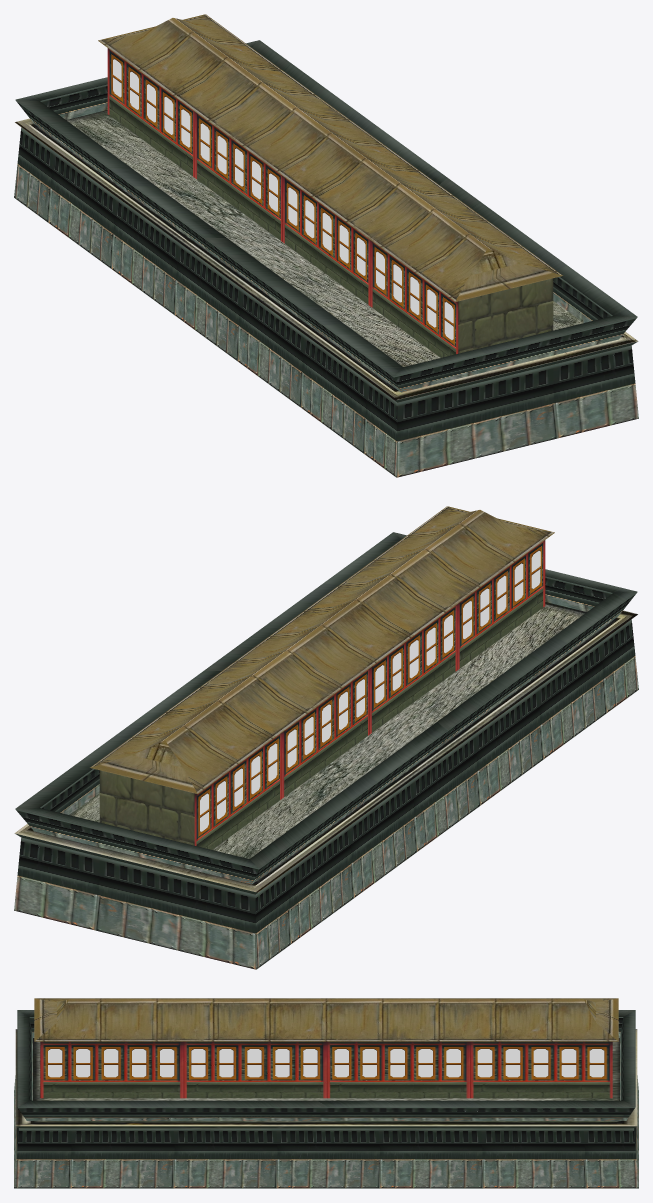
Rendered from l_elitebarracks_hdtex.glb.
3 renders of one model, top to bottom at view 1: azimuth 30°, elevation 25°; view 2: azimuth 150°, elevation 25°; view 3: azimuth 270°, elevation 25°, orthographic. The views are drawn at different scales.
Parts seen in each view (by area): view 1: barracks, litwin_ebarracks; view 2: barracks, litwin_ebarracks; view 3: barracks, litwin_ebarracks.
Part boxes in pixels (x1,y1,x2,y2): barracks: (14,14,638,477); litwin_ebarracks: (113,59,453,339); barracks: (14,506,638,969); litwin_ebarracks: (200,551,540,831); barracks: (14,998,638,1188); litwin_ebarracks: (48,1049,604,1077).
Bounding box in the file's own units: 15.7 × 10.69 × 42.56.
5 materials, 5 textured.
